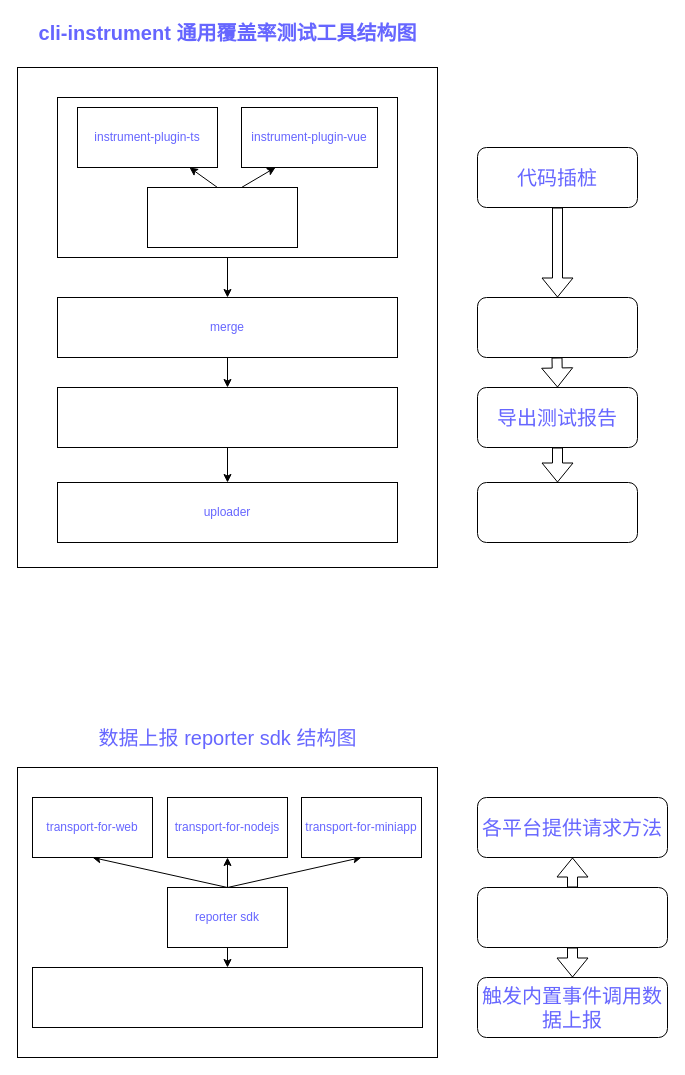
This 685x1075 diagram has some shape labels left out. The shapes that lost their labels are listed below. From the top down, each one's box as (x1, y1, x2, y2) in pixels, then its label:
(146, 186, 298, 248): instrument
(476, 296, 638, 358): 测试数据合并
(56, 386, 398, 448): reporter
(476, 482, 638, 542): 上传测试报告
(476, 886, 668, 948): 提供基本上报接口
(32, 966, 422, 1028): events（如页面刷新，关闭等）
